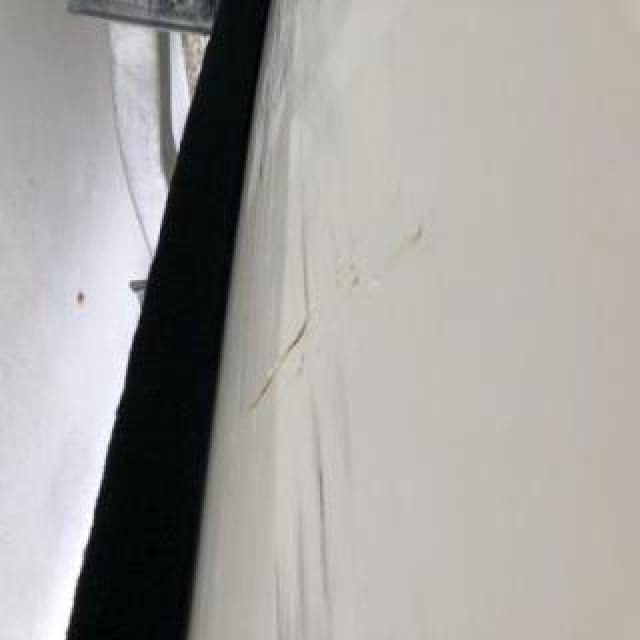crack: (236, 284, 328, 426)
